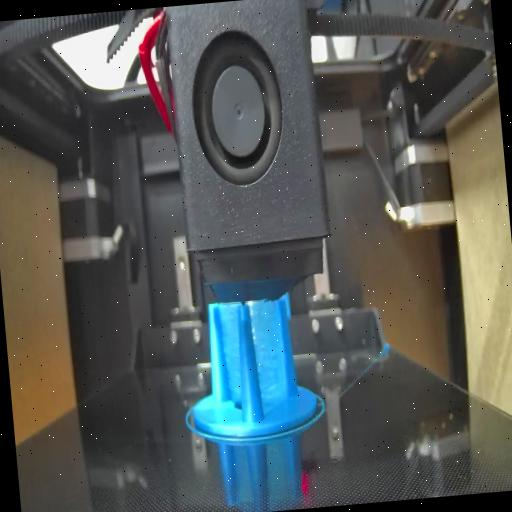stringing: (251, 294, 291, 418), (217, 302, 245, 424)
